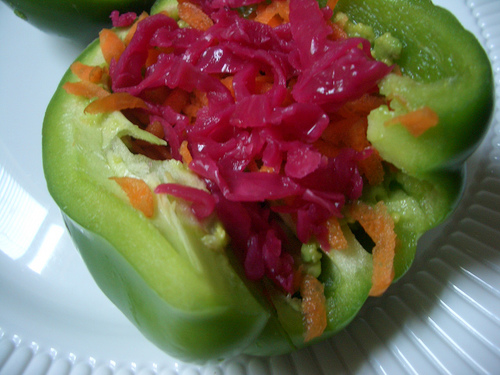capsicum: (43, 1, 495, 360)
